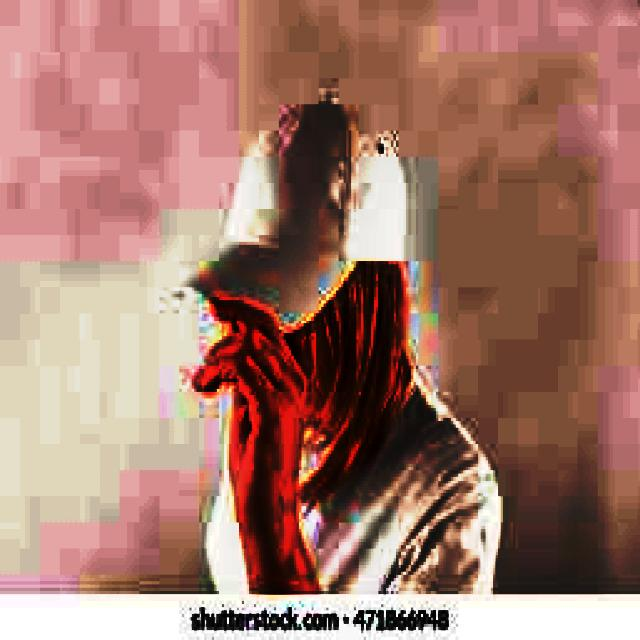TOPI: (164, 85, 411, 333)
